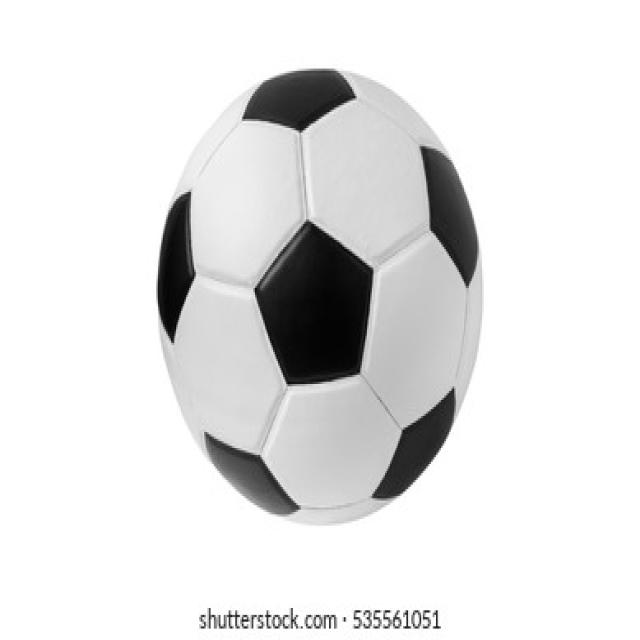soccer ball: (158, 69, 484, 524)
